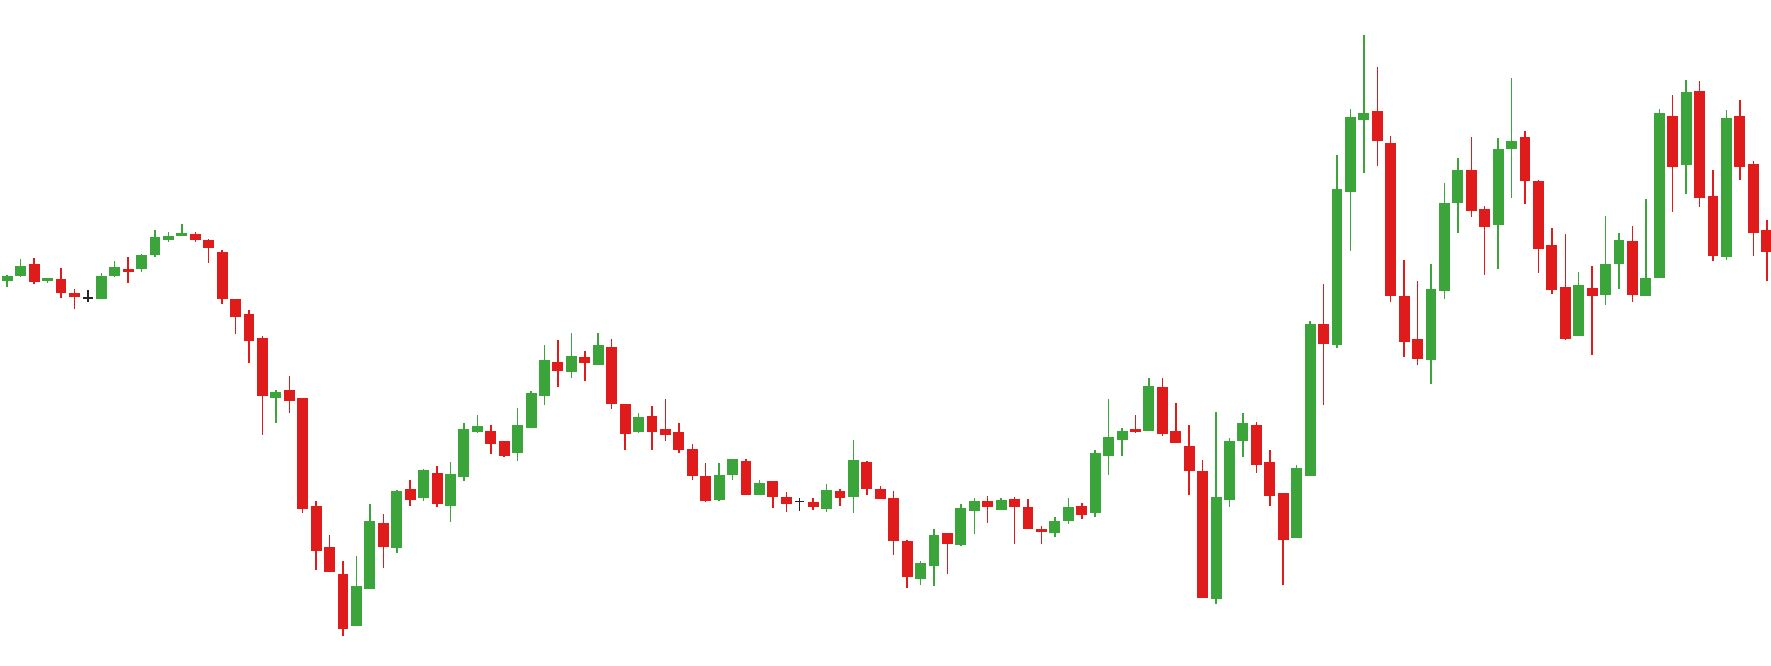buy: (1007, 464, 1225, 607)
